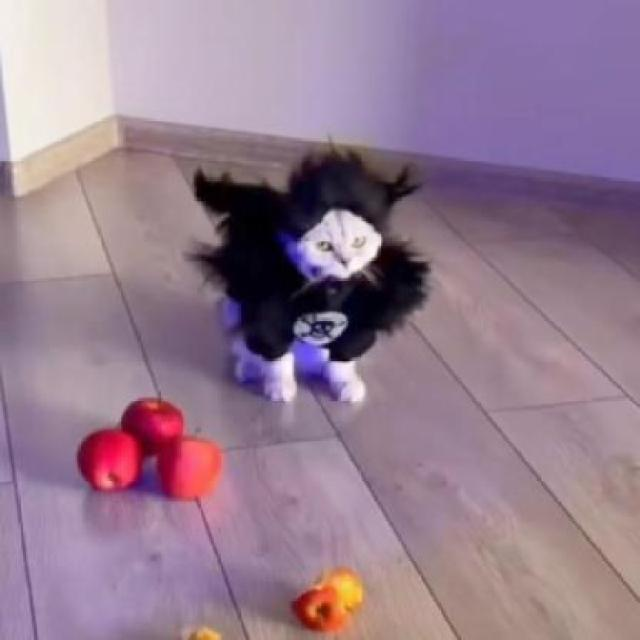cat: (232, 203, 391, 395)
